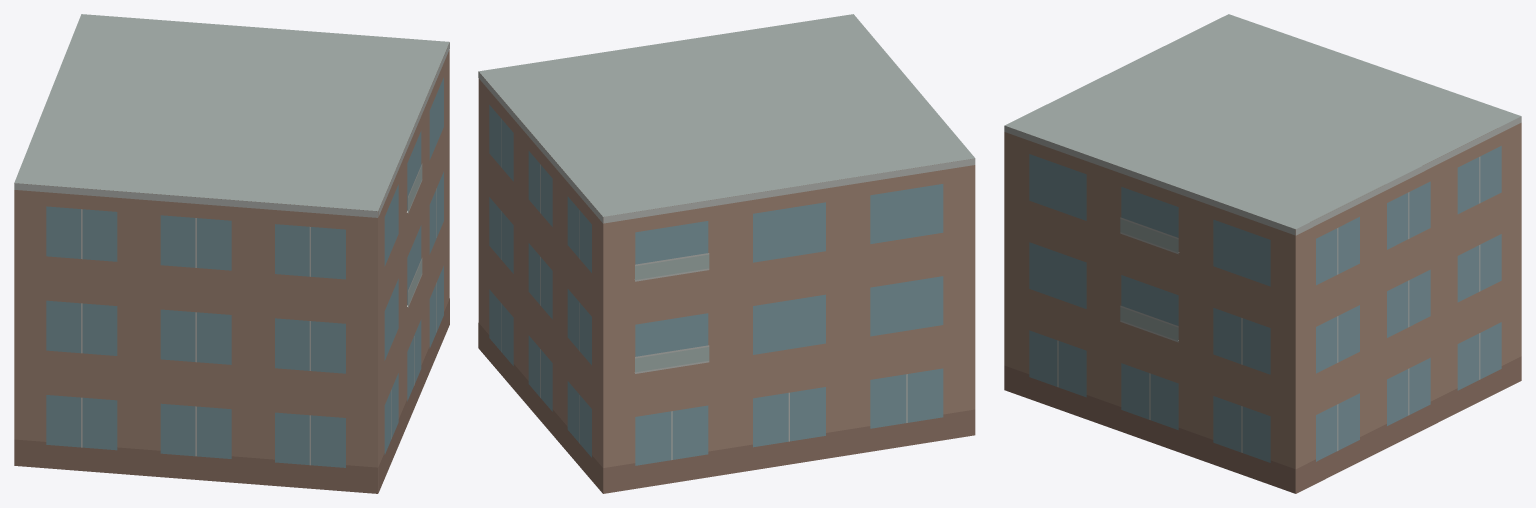
The model's file is survey-upis-32884787.glb.
3 renders of one model, left to right at view 1: azimuth 30°, elevation 25°; view 2: azimuth 150°, elevation 25°; view 3: azimuth 270°, elevation 25°, orthographic. The views are drawn at different scales.
Visible parts, largest first — view 1: survey-upis-32884787.tmp; view 2: survey-upis-32884787.tmp; view 3: survey-upis-32884787.tmp.
Part boxes in pixels (left/top/right/bottom): survey-upis-32884787.tmp: left=14, top=14, right=449, bottom=493; survey-upis-32884787.tmp: left=478, top=14, right=975, bottom=493; survey-upis-32884787.tmp: left=1004, top=14, right=1521, bottom=493.
Bounding box in the file's own units: 17.81 × 10.2 × 18.07.
